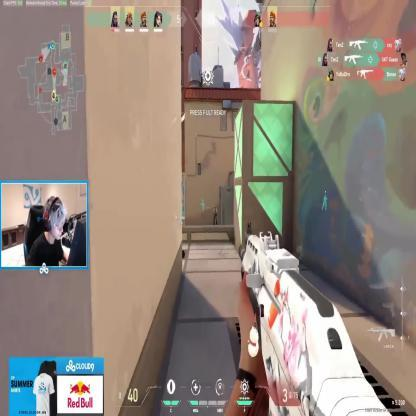enemy: (213, 206, 218, 226)
enemy_head: (214, 206, 216, 210)
